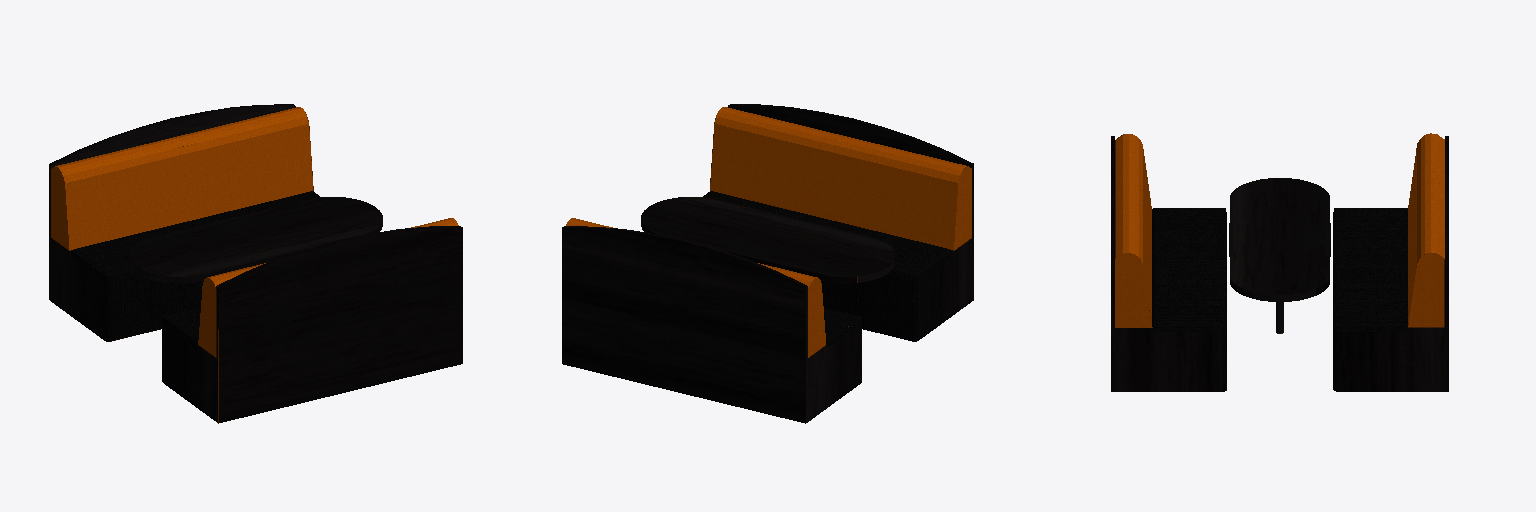
3 views of the same model, side by side, from view 1: azimuth 30°, elevation 25°; view 2: azimuth 150°, elevation 25°; view 3: azimuth 270°, elevation 25° (orthographic).
Bounding box in the file's own units: 2 × 1.19 × 2.39.
Materials: 4 (1 with a texture image).